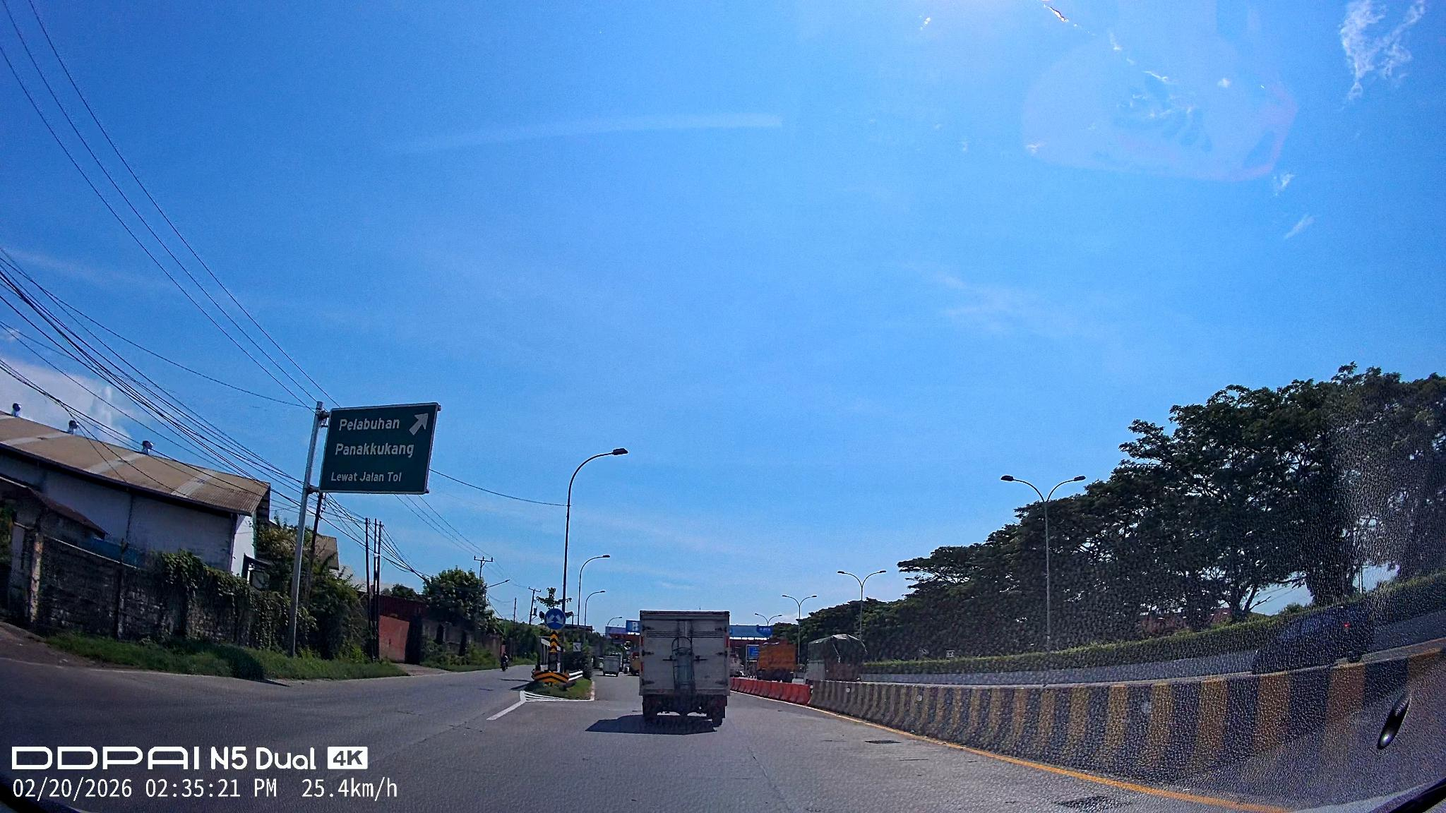rambu_teks: (318, 401, 441, 495)
